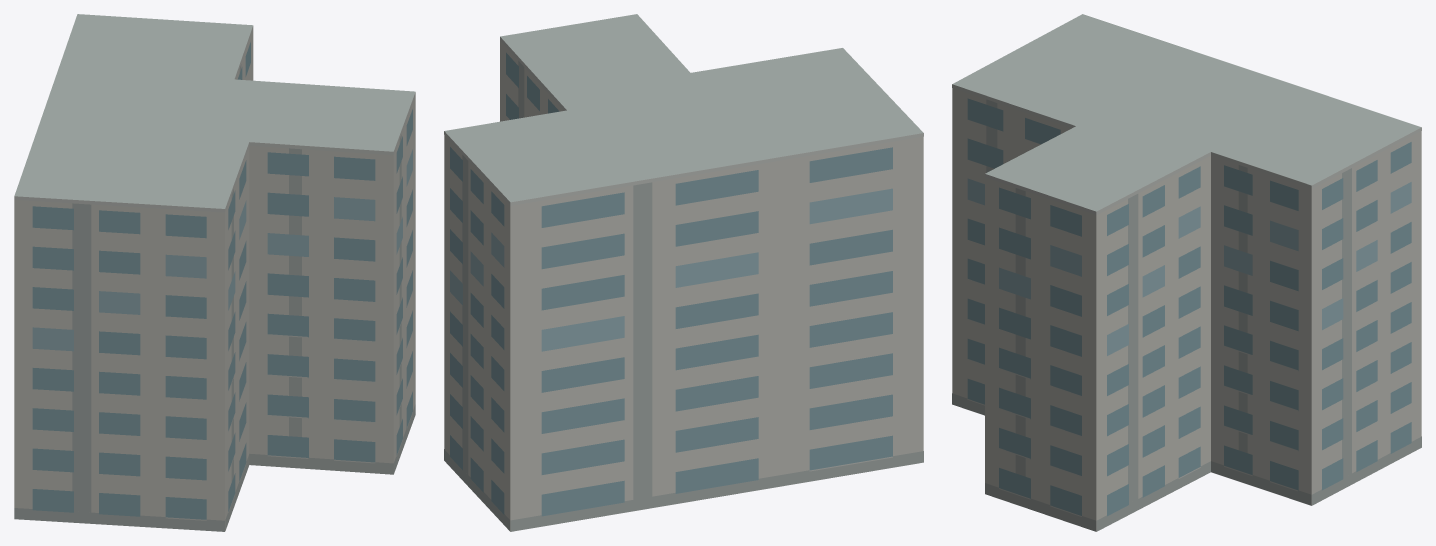
File: survey-upis-32881021.glb
3 views of the same model, side by side, from view 1: azimuth 30°, elevation 25°; view 2: azimuth 150°, elevation 25°; view 3: azimuth 270°, elevation 25° (orthographic). The views are drawn at different scales.
Parts seen in each view (by area): view 1: survey-upis-32881021.tmp; view 2: survey-upis-32881021.tmp; view 3: survey-upis-32881021.tmp.
Part boxes in pixels (x1=…): survey-upis-32881021.tmp: x1=14, y1=14, x2=415, y2=531; survey-upis-32881021.tmp: x1=444, y1=14, x2=923, y2=531; survey-upis-32881021.tmp: x1=952, y1=14, x2=1421, y2=531.
Size of the model in its own units: 28.46 by 21.5 by 28.58.
